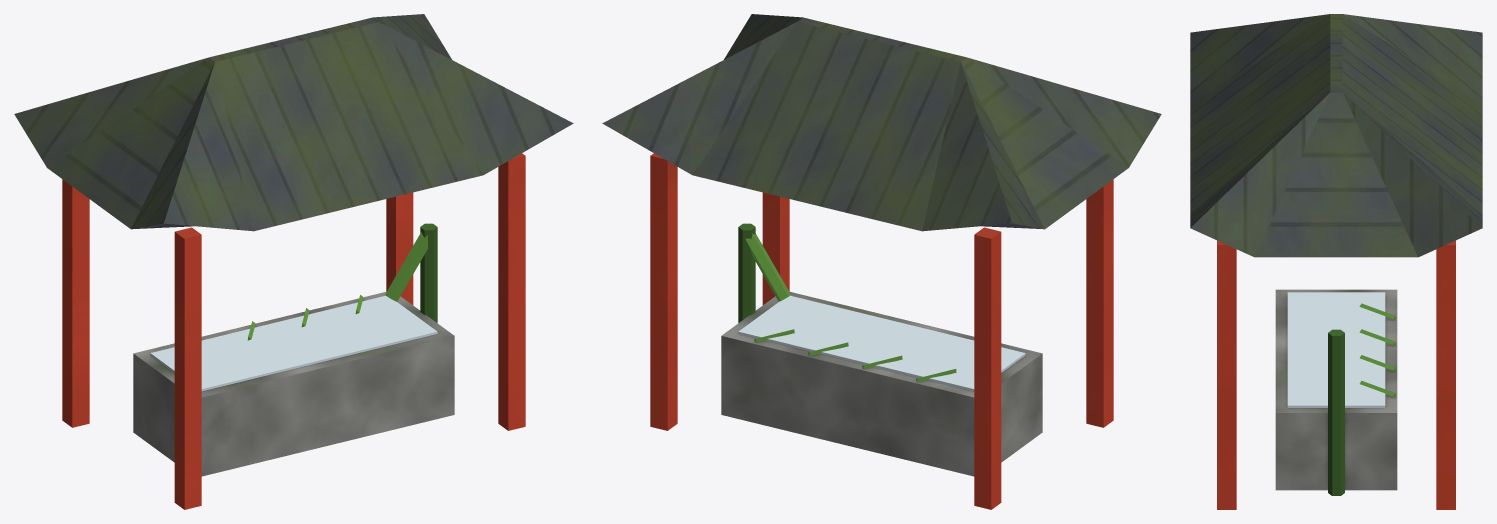
The model's file is temizuya_tex.glb.
The picture shows the model from 3 angles, left to right: view 1: azimuth 30°, elevation 25°; view 2: azimuth 150°, elevation 25°; view 3: azimuth 270°, elevation 25°; orthographic projection. The views are drawn at different scales.
Visible parts, largest first — view 1: temizuya; view 2: temizuya; view 3: temizuya.
Part boxes in pixels (left/top/right/bottom): temizuya: left=14, top=14, right=573, bottom=509; temizuya: left=602, top=14, right=1161, bottom=509; temizuya: left=1190, top=14, right=1482, bottom=509.
Size of the model in its own units: 3.8 by 3.4 by 2.4.
Materials: 6 (3 with a texture image).
